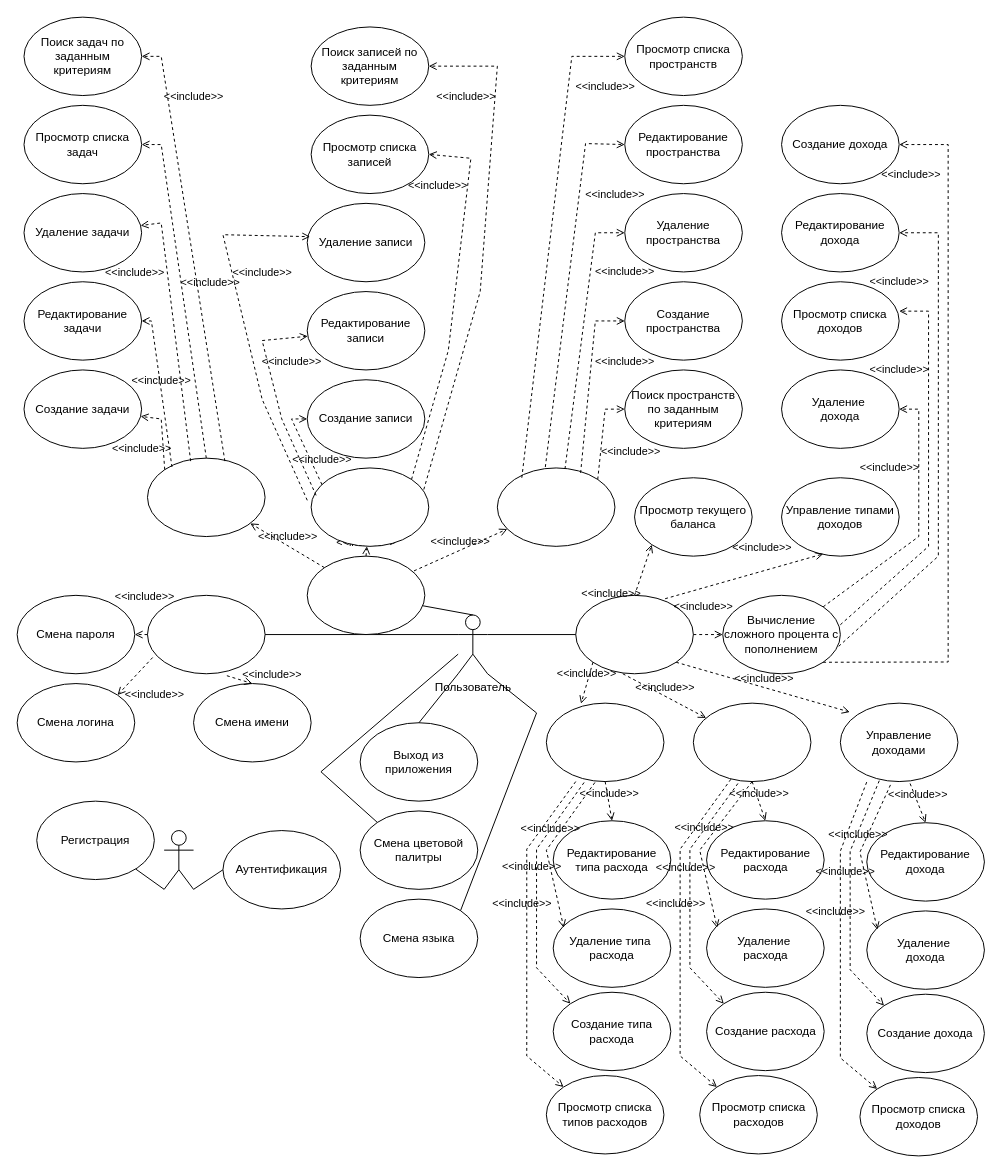
Some shapes in this 1002 by 1173 pixel diagram are drawn without their labels. The shapes that lost their labels are listed below. From the top down, each one's centre as x and y in pixels, then its label:
At pixel 206 497: "Управление задачами".
At pixel 369 506: "Управление записями".
At pixel 555 506: "Управление пространствами".
At pixel 365 595: "Управление ежедневником".
At pixel 206 634: "Управление профилем".
At pixel 634 634: "Управление финансовым трекером".
At pixel 604 742: "Управление типами расходов".
At pixel 751 742: "Управление расходами".
At pixel 178 859: "Гость".
